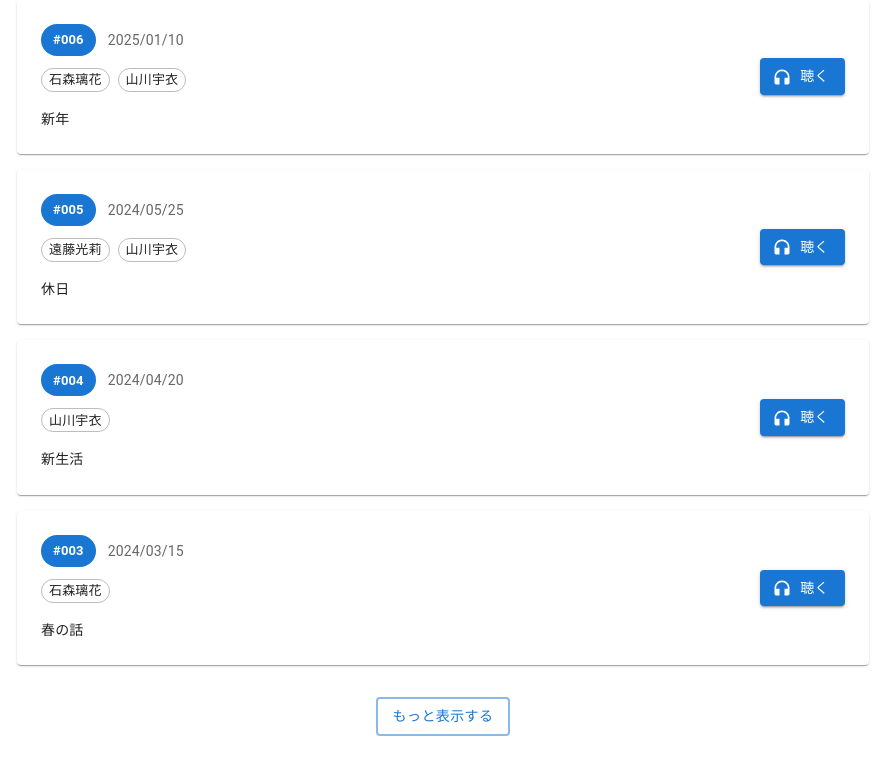
Test: SearchContainer › 追加表示後は全件を表示し、ボタンを隠す
(page scrolled)
Click the button "もっと表示する" at (443, 716), box [376, 697, 510, 736]
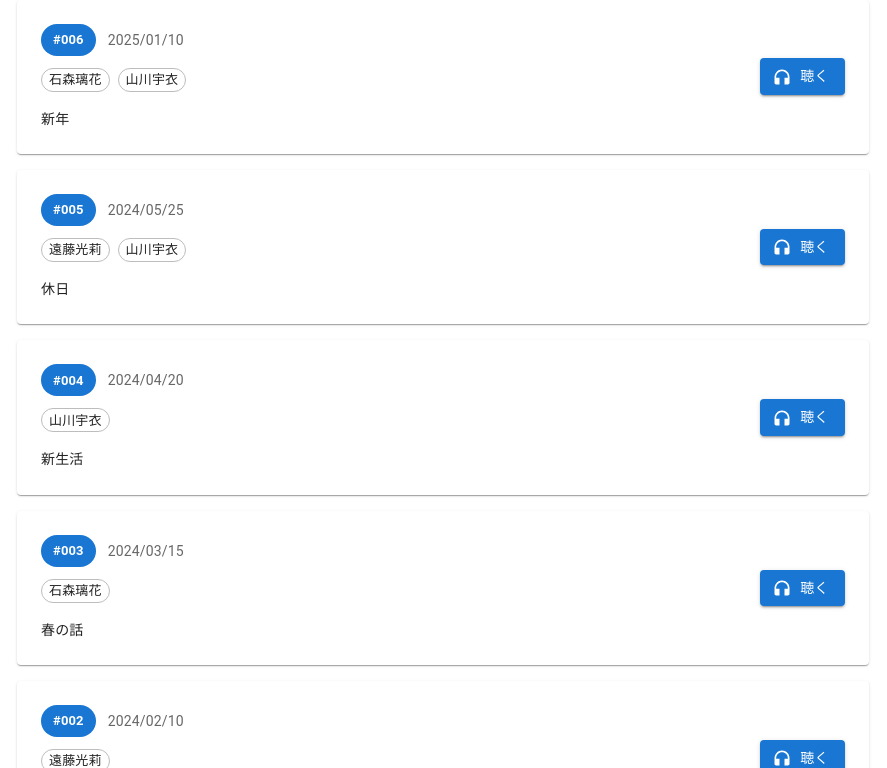
Result: the button "もっと表示する" is gone
